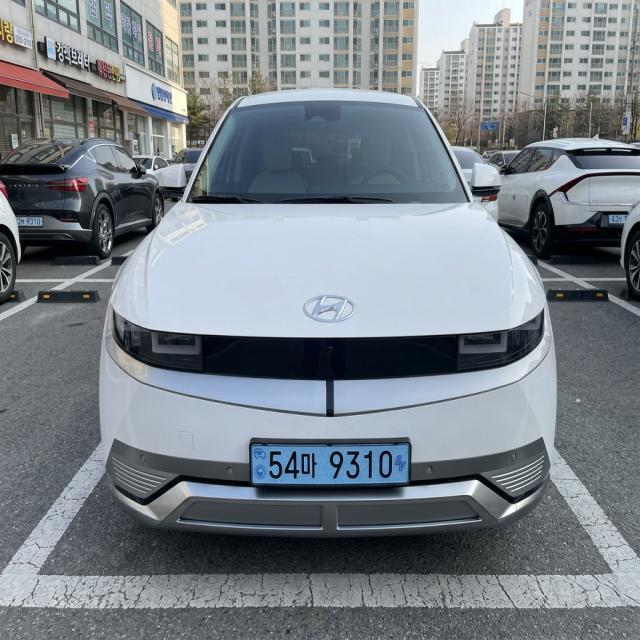car: (231, 426, 431, 504)
carev: (250, 440, 269, 494), (393, 439, 411, 491)
